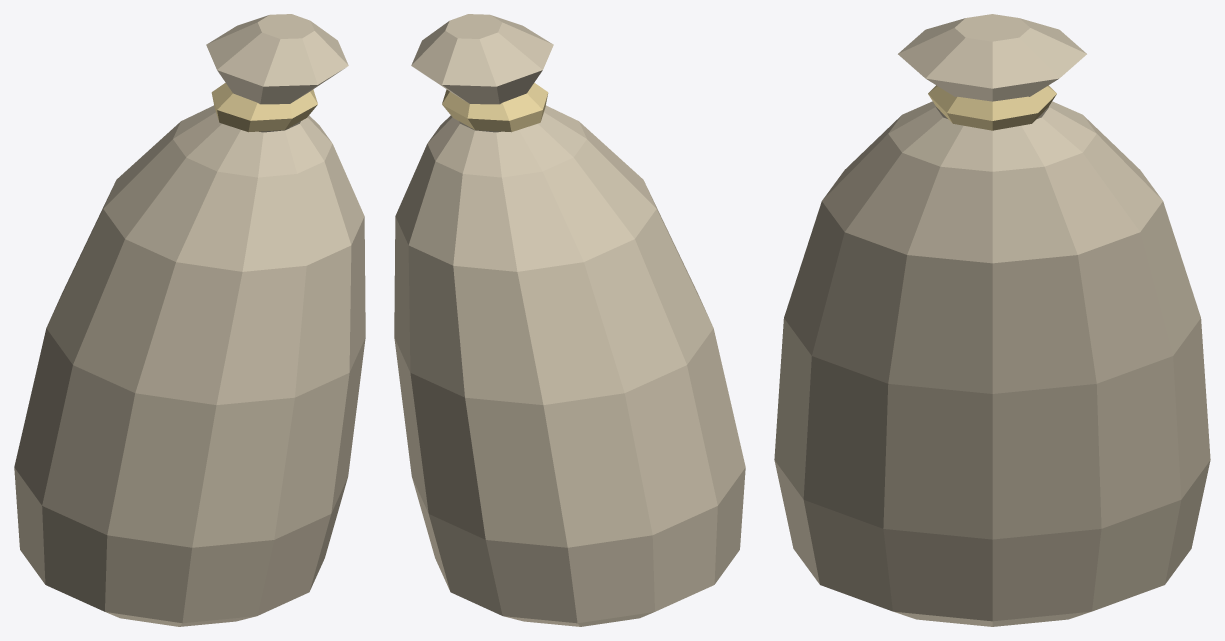
Rendered from prop-sack-tied-cc1.fbx.
3 renders of one model, left to right at view 1: azimuth 30°, elevation 25°; view 2: azimuth 150°, elevation 25°; view 3: azimuth 270°, elevation 25°, orthographic. The views are drawn at different scales.
Visible parts, largest first — view 1: prop-sack-tied-cc1; view 2: prop-sack-tied-cc1; view 3: prop-sack-tied-cc1.
Boxes of the visible parts, <box> form: prop-sack-tied-cc1: <box>14,14,365,626</box>; prop-sack-tied-cc1: <box>394,14,745,626</box>; prop-sack-tied-cc1: <box>774,14,1210,626</box>.
Bounding box in the file's own units: 0.4723 × 0.78 × 0.506.
